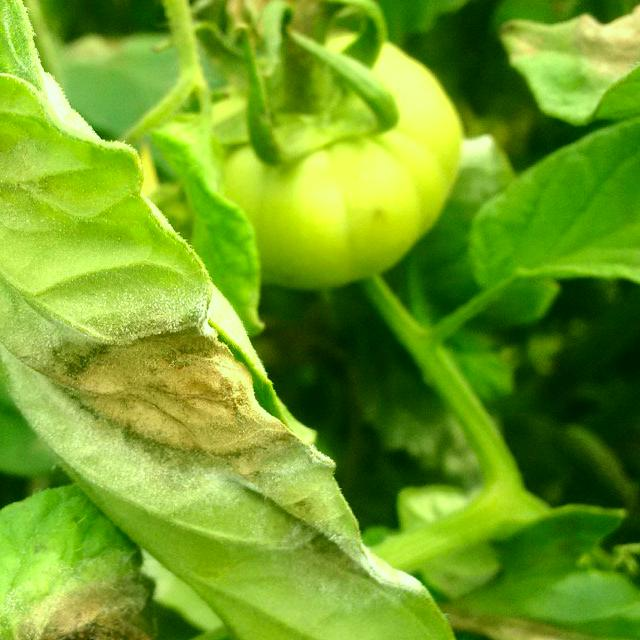Tomato leaf late blight: (0, 0, 503, 640), (0, 483, 269, 640)
